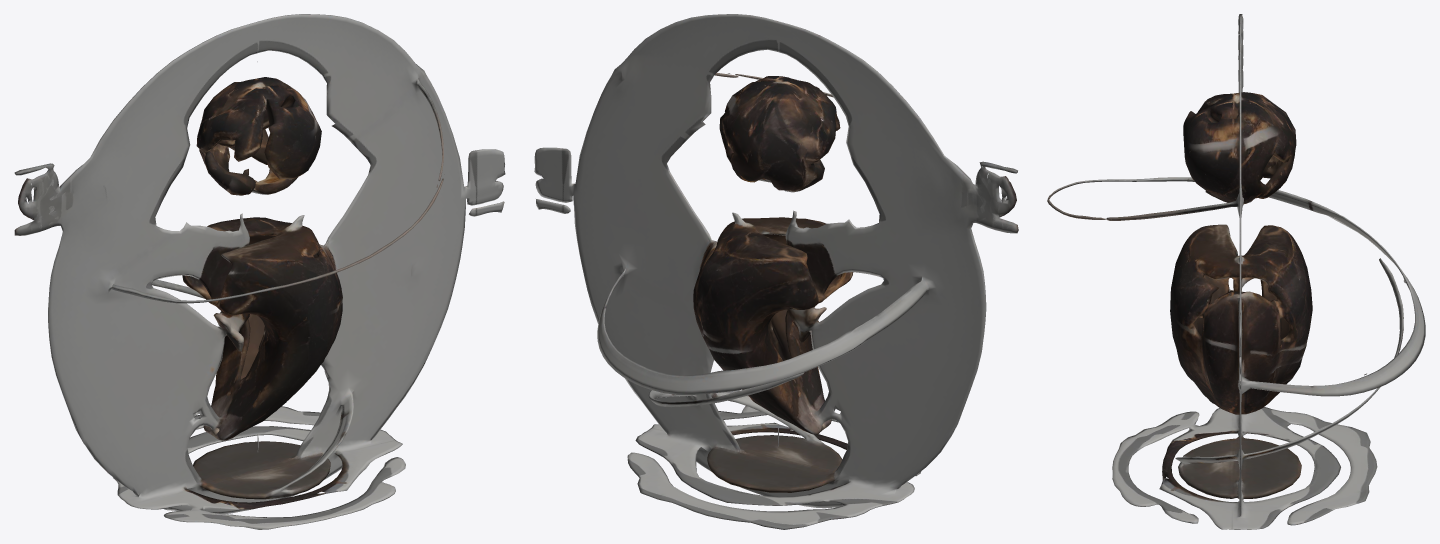
File: semicolon.glb
3 views of the same model, side by side, from view 1: azimuth 30°, elevation 25°; view 2: azimuth 150°, elevation 25°; view 3: azimuth 270°, elevation 25° (orthographic). The views are drawn at different scales.
Visible parts, largest first — view 1: tripo_node_62fabbd0; view 2: tripo_node_62fabbd0; view 3: tripo_node_62fabbd0.
Boxes of the visible parts, <box> form: tripo_node_62fabbd0: <box>14,14,505,529</box>; tripo_node_62fabbd0: <box>534,14,1018,529</box>; tripo_node_62fabbd0: <box>1047,14,1425,529</box>.
Bounding box in the file's own units: 99.28 × 94.09 × 69.52.
Materials: 1 (1 with a texture image).
